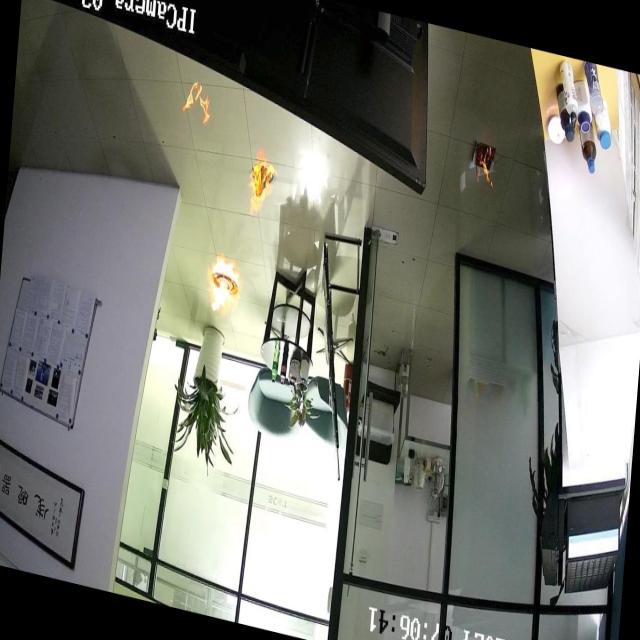fire: (165, 34, 223, 140), (199, 239, 255, 331), (234, 140, 280, 247), (458, 123, 504, 217)
